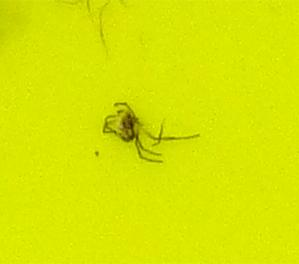Araneae: (100, 100, 199, 164)
